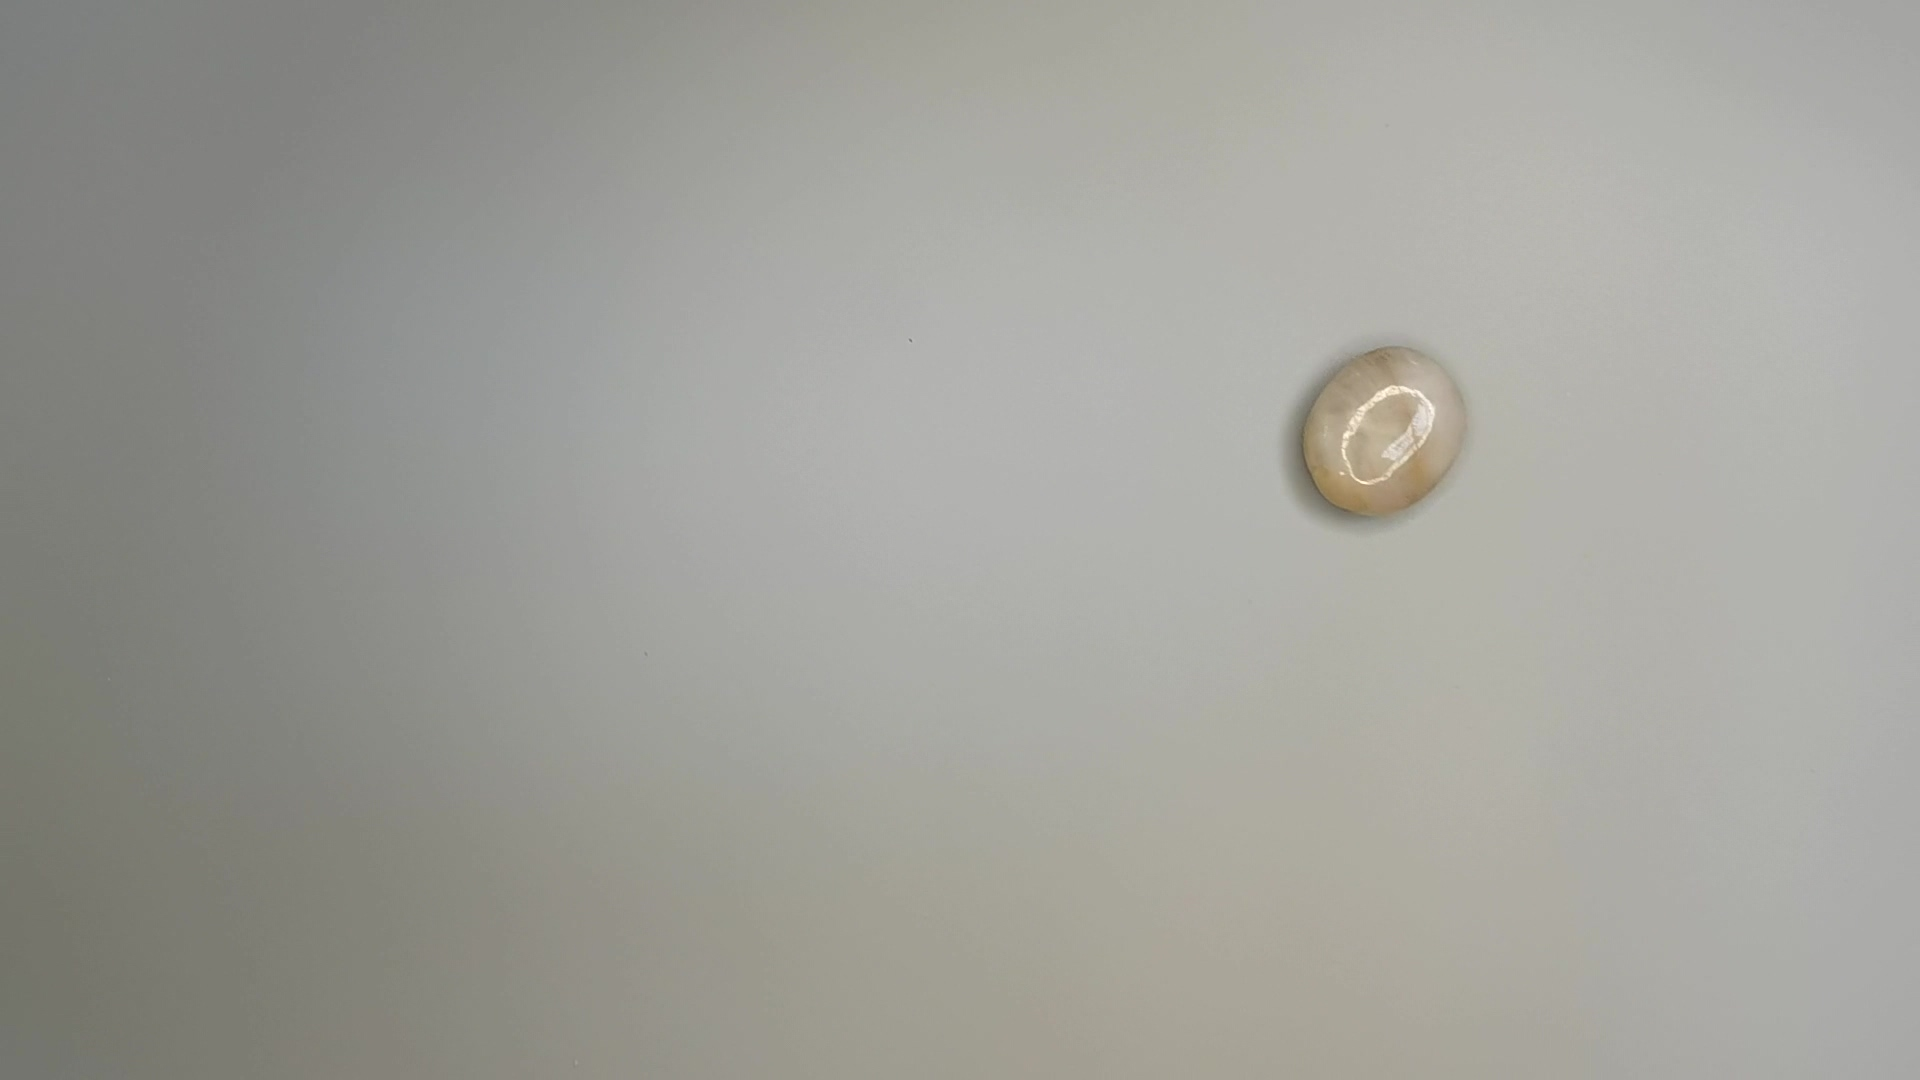ceramic: (1304, 342, 1474, 522)
